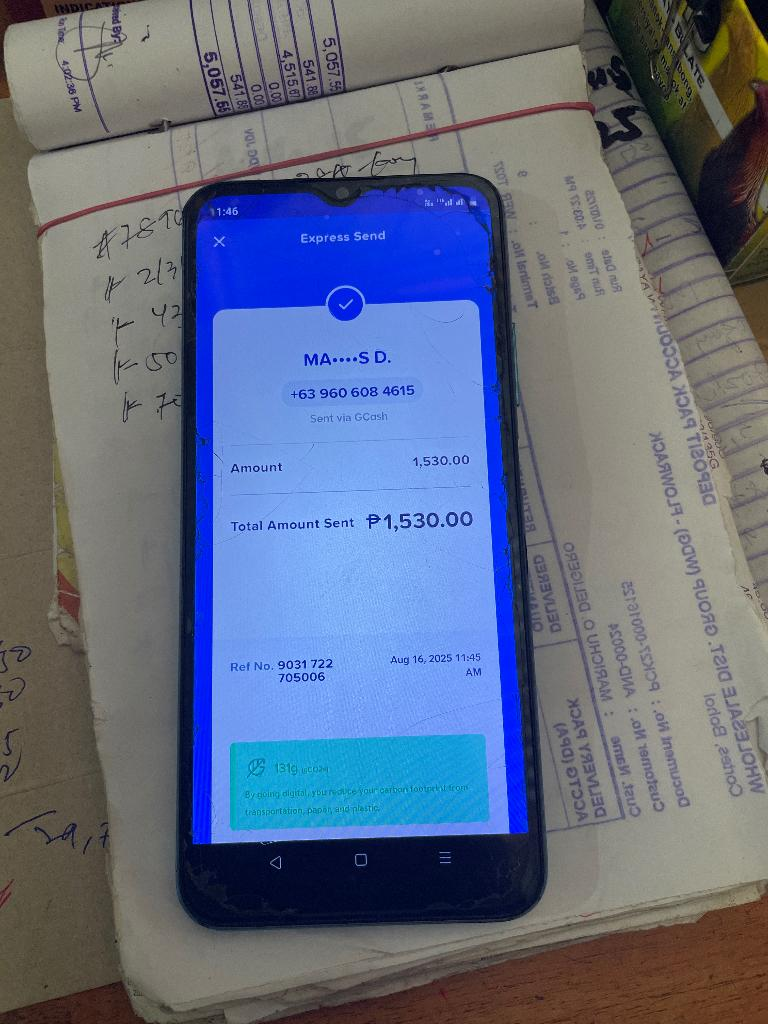Receipt: (193, 213, 527, 844)
